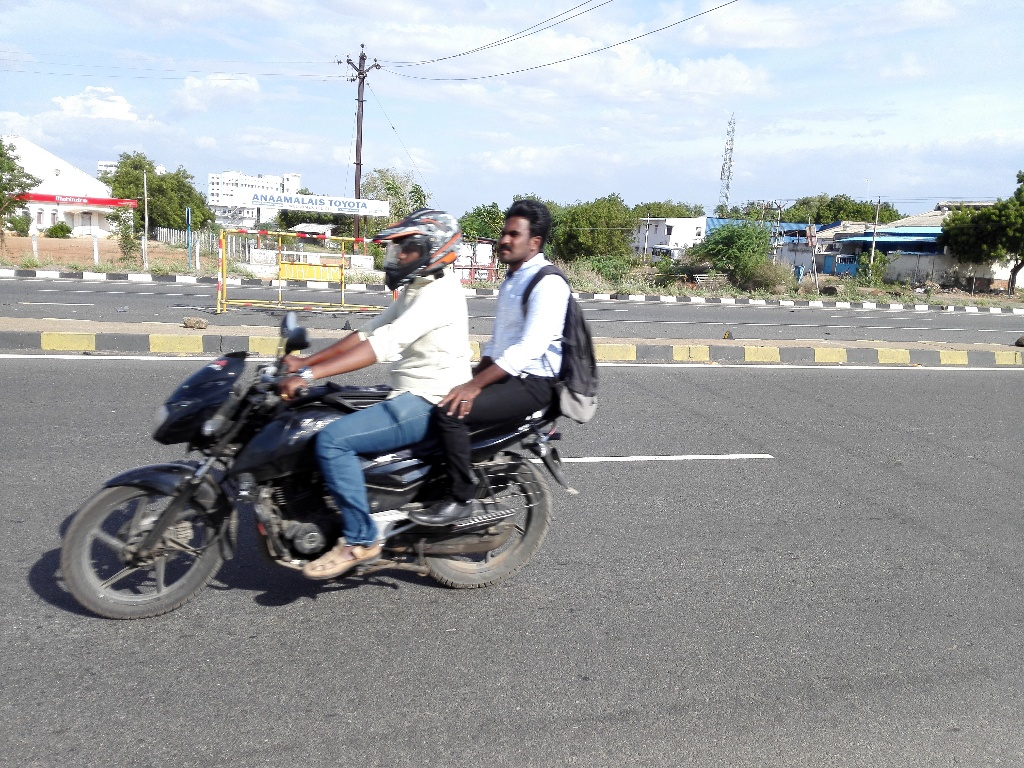biker: (52, 152, 620, 631)
helmet: (363, 195, 468, 296)
nohelmet: (487, 183, 569, 275)
